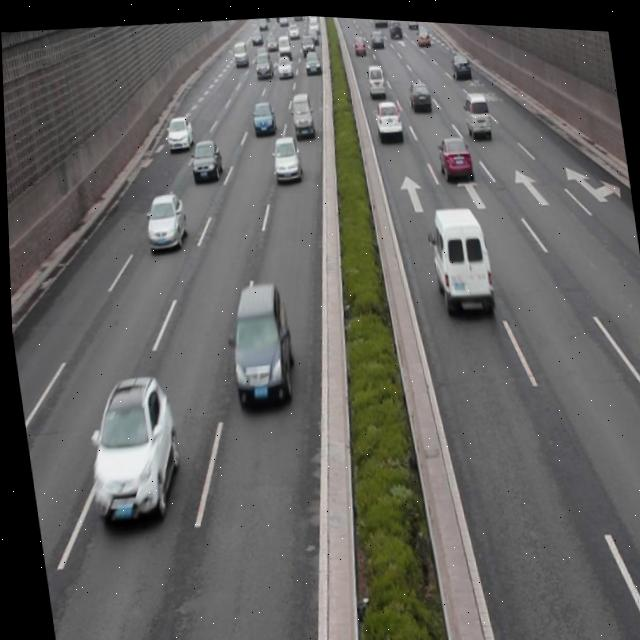car: (74, 367, 182, 526), (219, 279, 296, 413), (140, 188, 187, 249), (433, 131, 471, 179), (267, 129, 302, 179), (187, 135, 222, 179), (372, 94, 401, 137), (163, 111, 194, 150), (249, 99, 274, 132)
truck: (422, 200, 492, 312), (460, 87, 490, 133), (288, 89, 314, 137)
